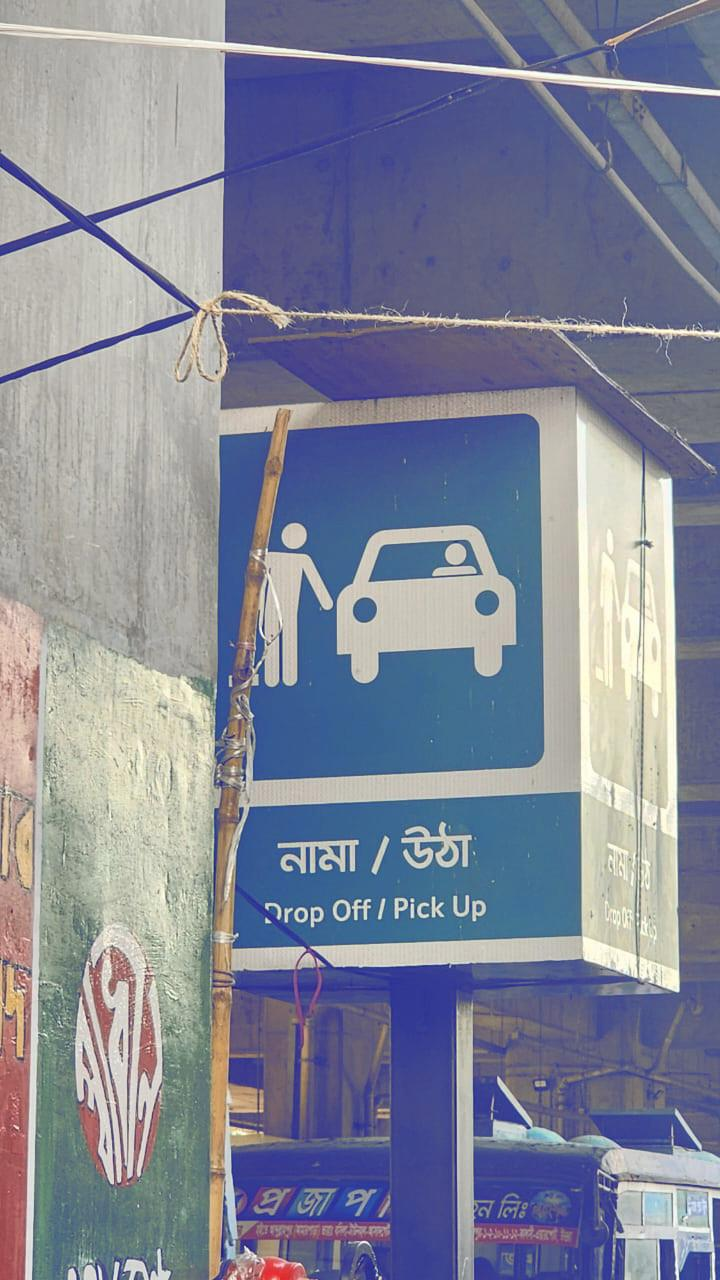Metro Dorp Up Pick up: (222, 386, 676, 1024)
